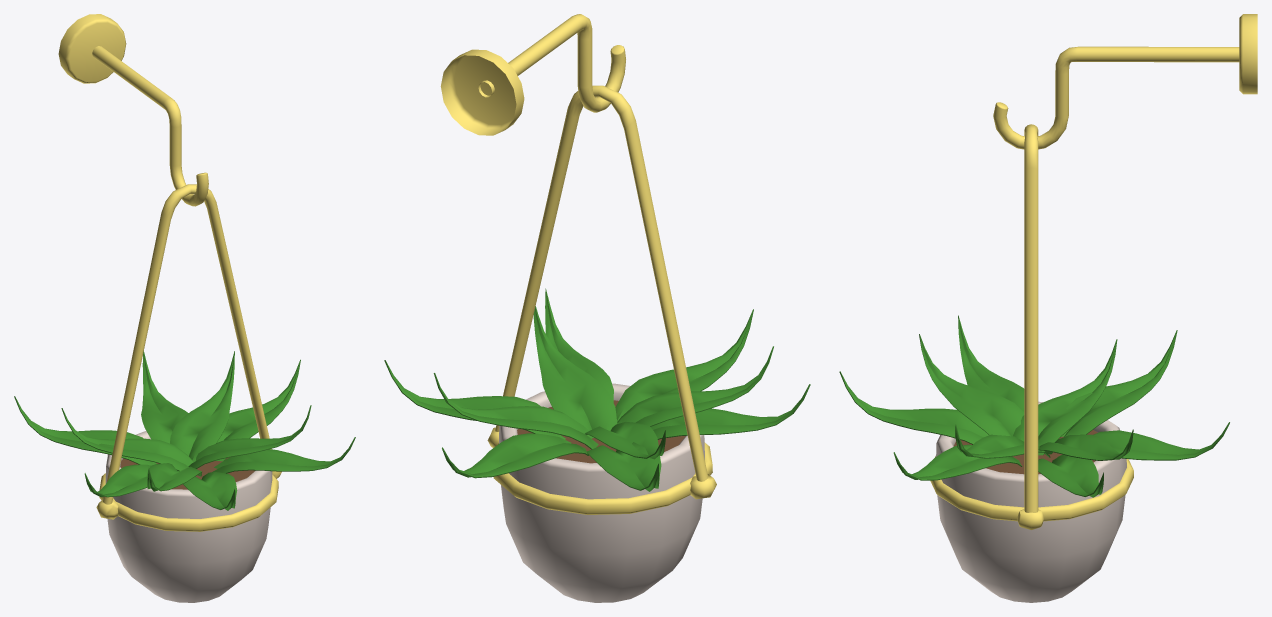
Rendered from Wall_Plant_1.glb.
3 renders of one model, left to right at view 1: azimuth 30°, elevation 25°; view 2: azimuth 150°, elevation 25°; view 3: azimuth 270°, elevation 25°, orthographic. The views are drawn at different scales.
Parts seen in each view (by area): view 1: Wall_Plant_1; view 2: Wall_Plant_1; view 3: Wall_Plant_1.
Part boxes in pixels (<box>): Wall_Plant_1: <box>14,14,355,602</box>; Wall_Plant_1: <box>384,14,810,602</box>; Wall_Plant_1: <box>839,14,1257,602</box>.
Bounding box in the file's own units: 0.6024 × 1.03 × 0.6849.
1 material, 1 textured.
